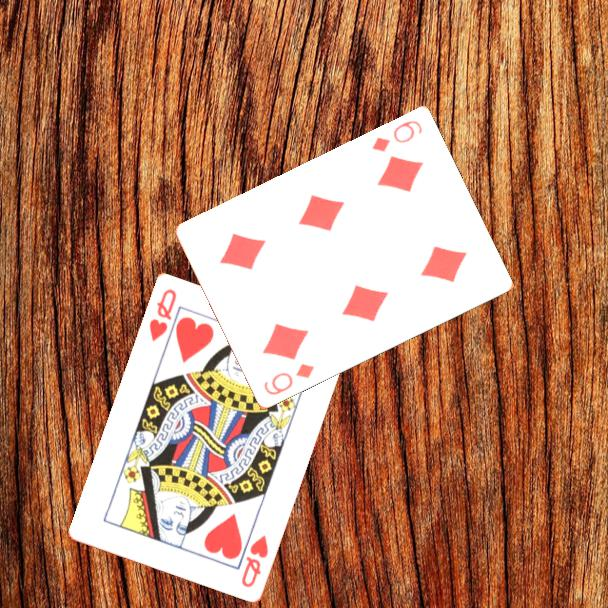d06: (260, 360, 317, 399), (368, 117, 425, 155)
h12: (146, 286, 180, 345), (238, 531, 271, 591)
